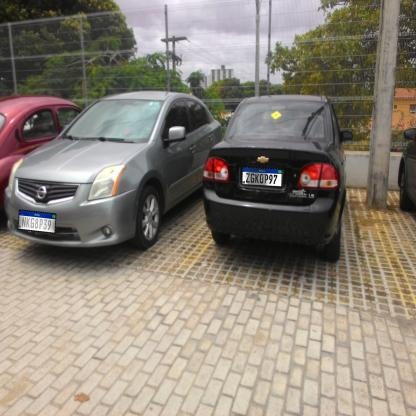PlacaM: (18, 209, 56, 234), (242, 167, 282, 187)
